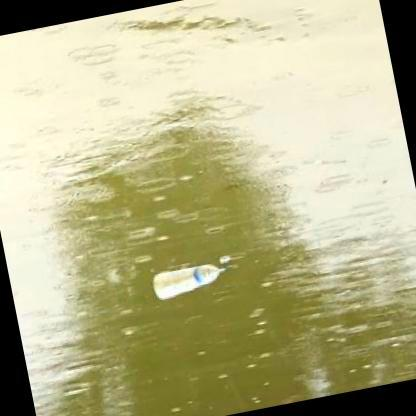Plastic: (153, 263, 229, 302)
